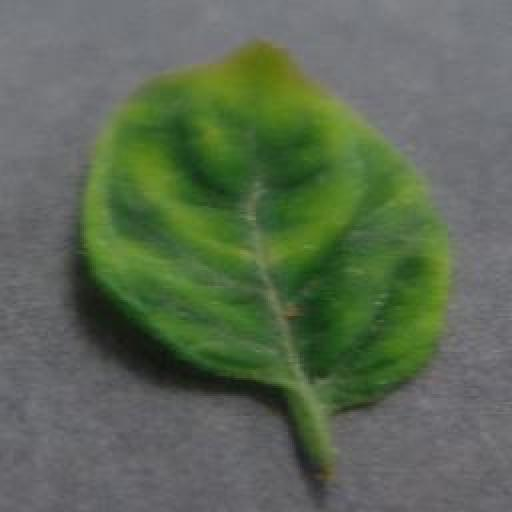disease_tomato: (79, 39, 450, 404)
